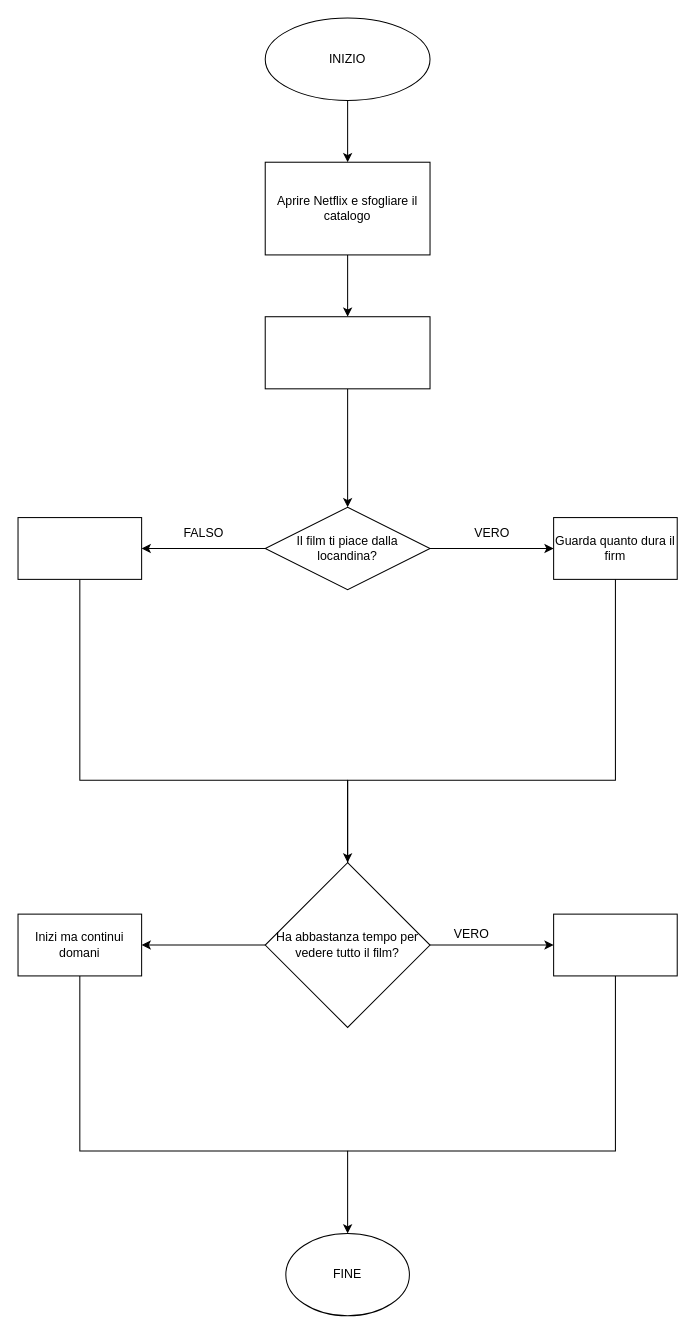
Some shapes in this 695 by 1334 pixel diagram are drawn without their labels. Here are the shapes that lost their labels. From the top down, the centre of each, then its label:
point 347,352: Vedere nella sezione "consigliati"
point 79,548: Continua a cercare
point 615,944: Si guardo il film
